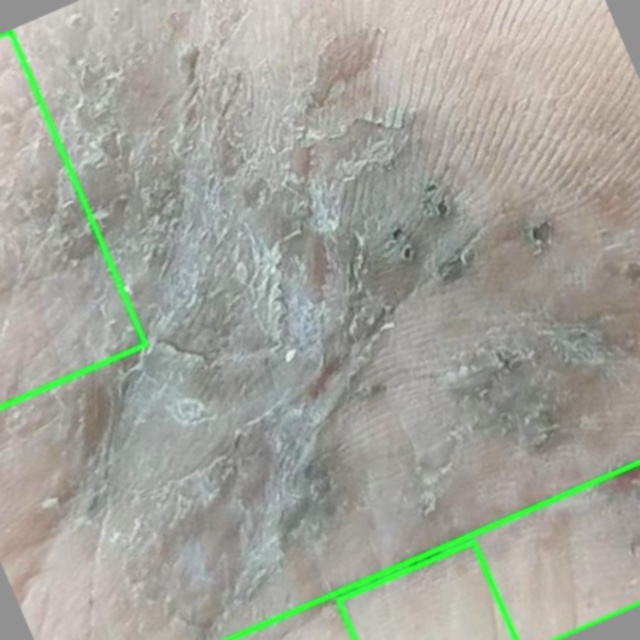Eczema: (338, 542, 515, 639)
